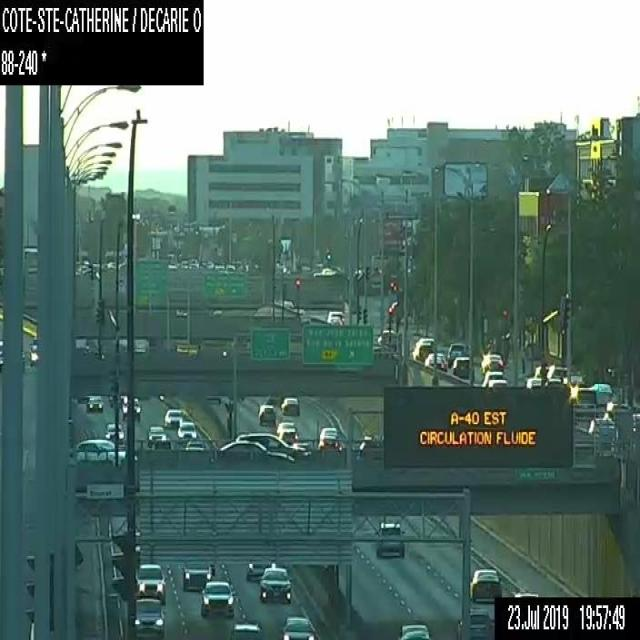vehicle: (234, 432, 306, 458), (218, 441, 294, 460), (200, 580, 235, 618), (134, 597, 165, 636), (457, 606, 494, 638), (73, 438, 126, 460), (134, 562, 166, 598), (469, 566, 501, 602), (374, 520, 404, 557), (260, 568, 292, 602), (180, 563, 215, 588), (227, 620, 264, 639), (281, 618, 316, 638), (357, 434, 382, 460), (244, 562, 274, 580), (452, 356, 474, 380), (398, 622, 430, 638), (121, 396, 140, 422), (424, 352, 446, 372), (480, 352, 503, 371), (447, 342, 466, 365), (318, 427, 339, 447), (546, 363, 568, 382), (257, 404, 276, 426), (276, 421, 298, 439), (412, 341, 431, 361), (280, 396, 299, 415), (164, 408, 183, 426), (104, 423, 123, 440), (147, 425, 166, 442), (150, 437, 173, 451), (377, 329, 396, 345), (177, 422, 196, 438), (482, 371, 503, 385), (86, 394, 102, 412), (326, 309, 346, 323), (416, 337, 434, 351), (526, 377, 547, 388), (592, 382, 611, 393), (184, 440, 205, 449), (514, 589, 538, 596), (534, 366, 547, 378)
